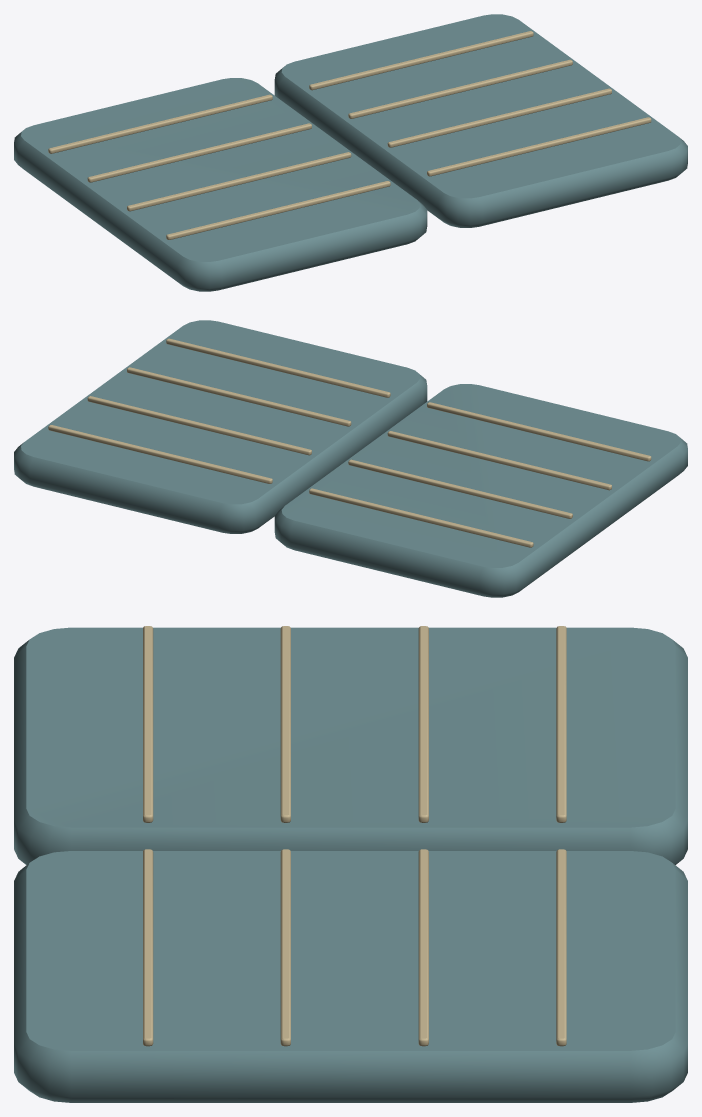
The model's file is charge_works_3.glb.
3 renders of one model, top to bottom at view 1: azimuth 30°, elevation 25°; view 2: azimuth 150°, elevation 25°; view 3: azimuth 270°, elevation 25°, orthographic. The views are drawn at different scales.
Visible parts, largest first — view 1: ChargeWorks3; view 2: ChargeWorks3; view 3: ChargeWorks3.
Part boxes in pixels (box(x1,y1,x2,y2)): ChargeWorks3: box(14, 14, 687, 291); ChargeWorks3: box(14, 320, 687, 597); ChargeWorks3: box(14, 626, 687, 1102).
Size of the model in its own units: 2.68 by 0.17 by 1.76.
